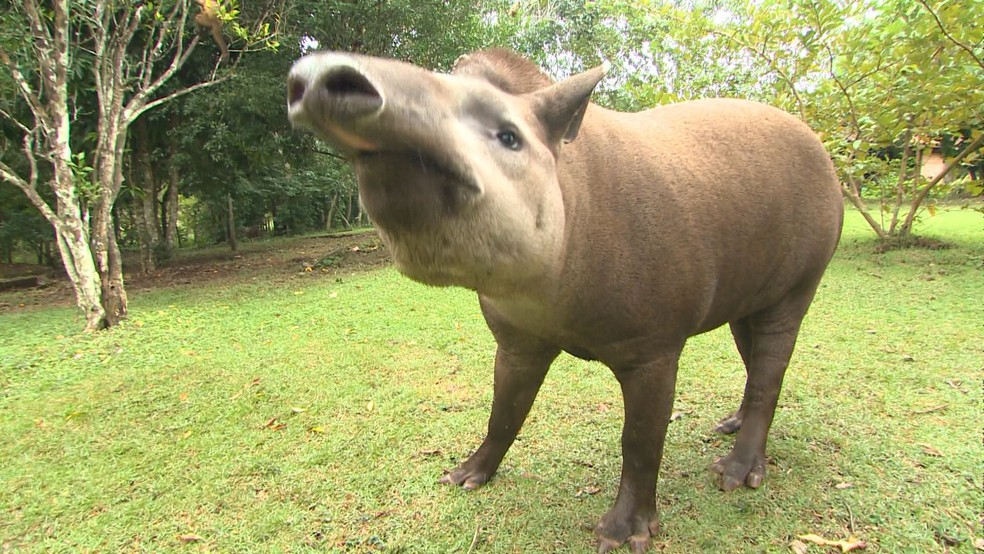Anta: (261, 27, 846, 546)
